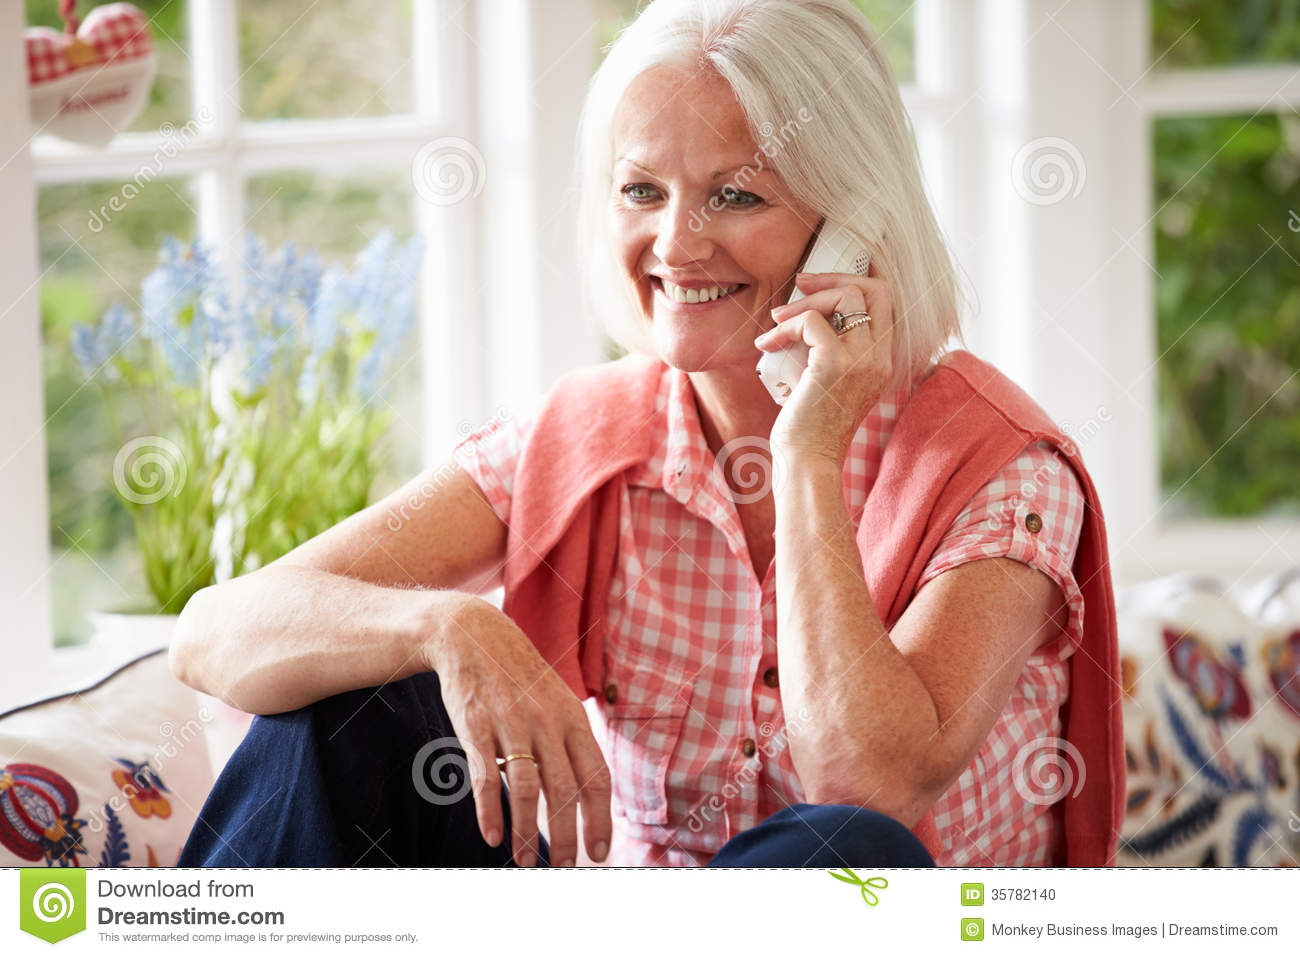talk: (606, 146, 903, 488)
